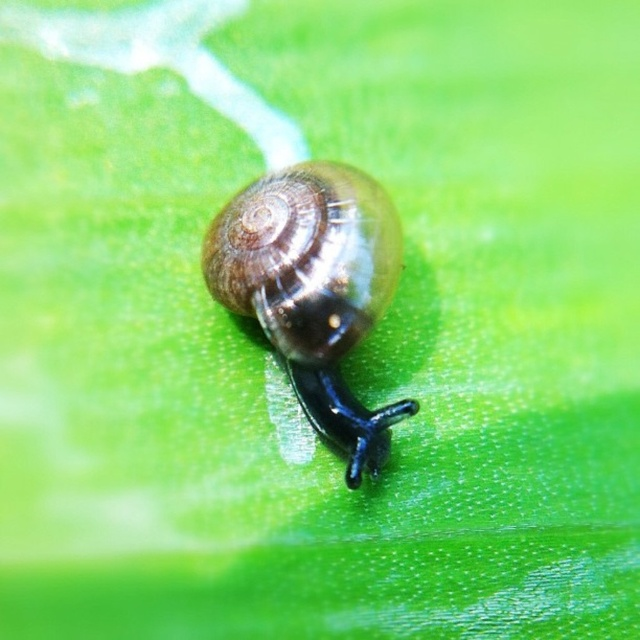Snail: (200, 154, 426, 489)
